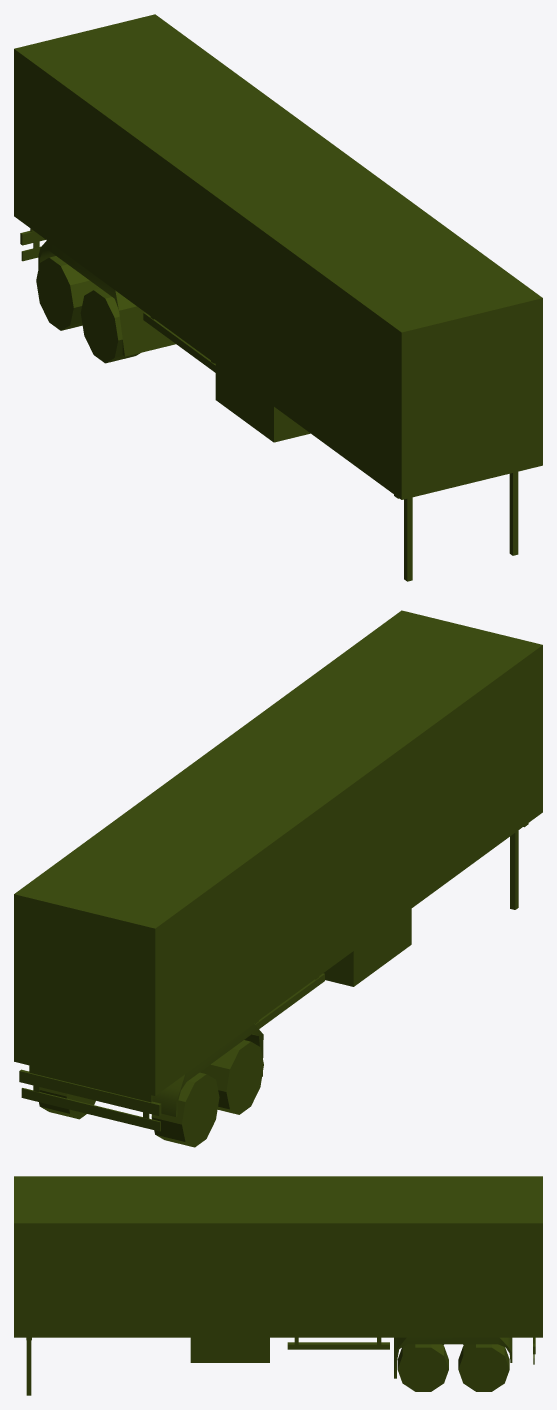
Rendered from Vehicle09A_M.fbx.
3 views of the same model, one above another, from view 1: azimuth 30°, elevation 25°; view 2: azimuth 150°, elevation 25°; view 3: azimuth 270°, elevation 25° (orthographic). The views are drawn at different scales.
Parts seen in each view (by area): view 1: Vehicle09A; view 2: Vehicle09A; view 3: Vehicle09A.
Boxes of the visible parts, x1,y1,x2,y2 form: Vehicle09A: (14,14,542,581); Vehicle09A: (14,610,542,1147); Vehicle09A: (14,1176,542,1395).
Size of the model in its own units: 1.64 by 2.8 by 7.57.
